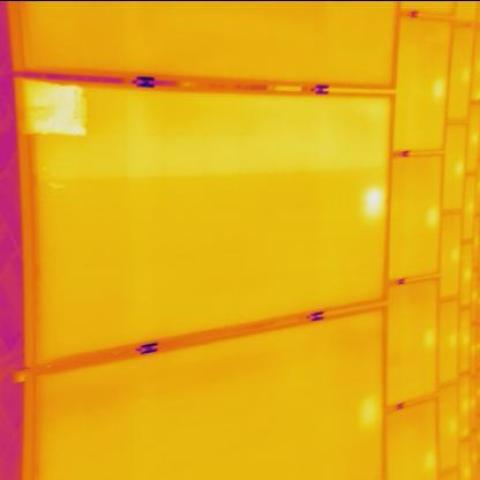fault: (19, 79, 94, 136), (366, 188, 384, 215)
